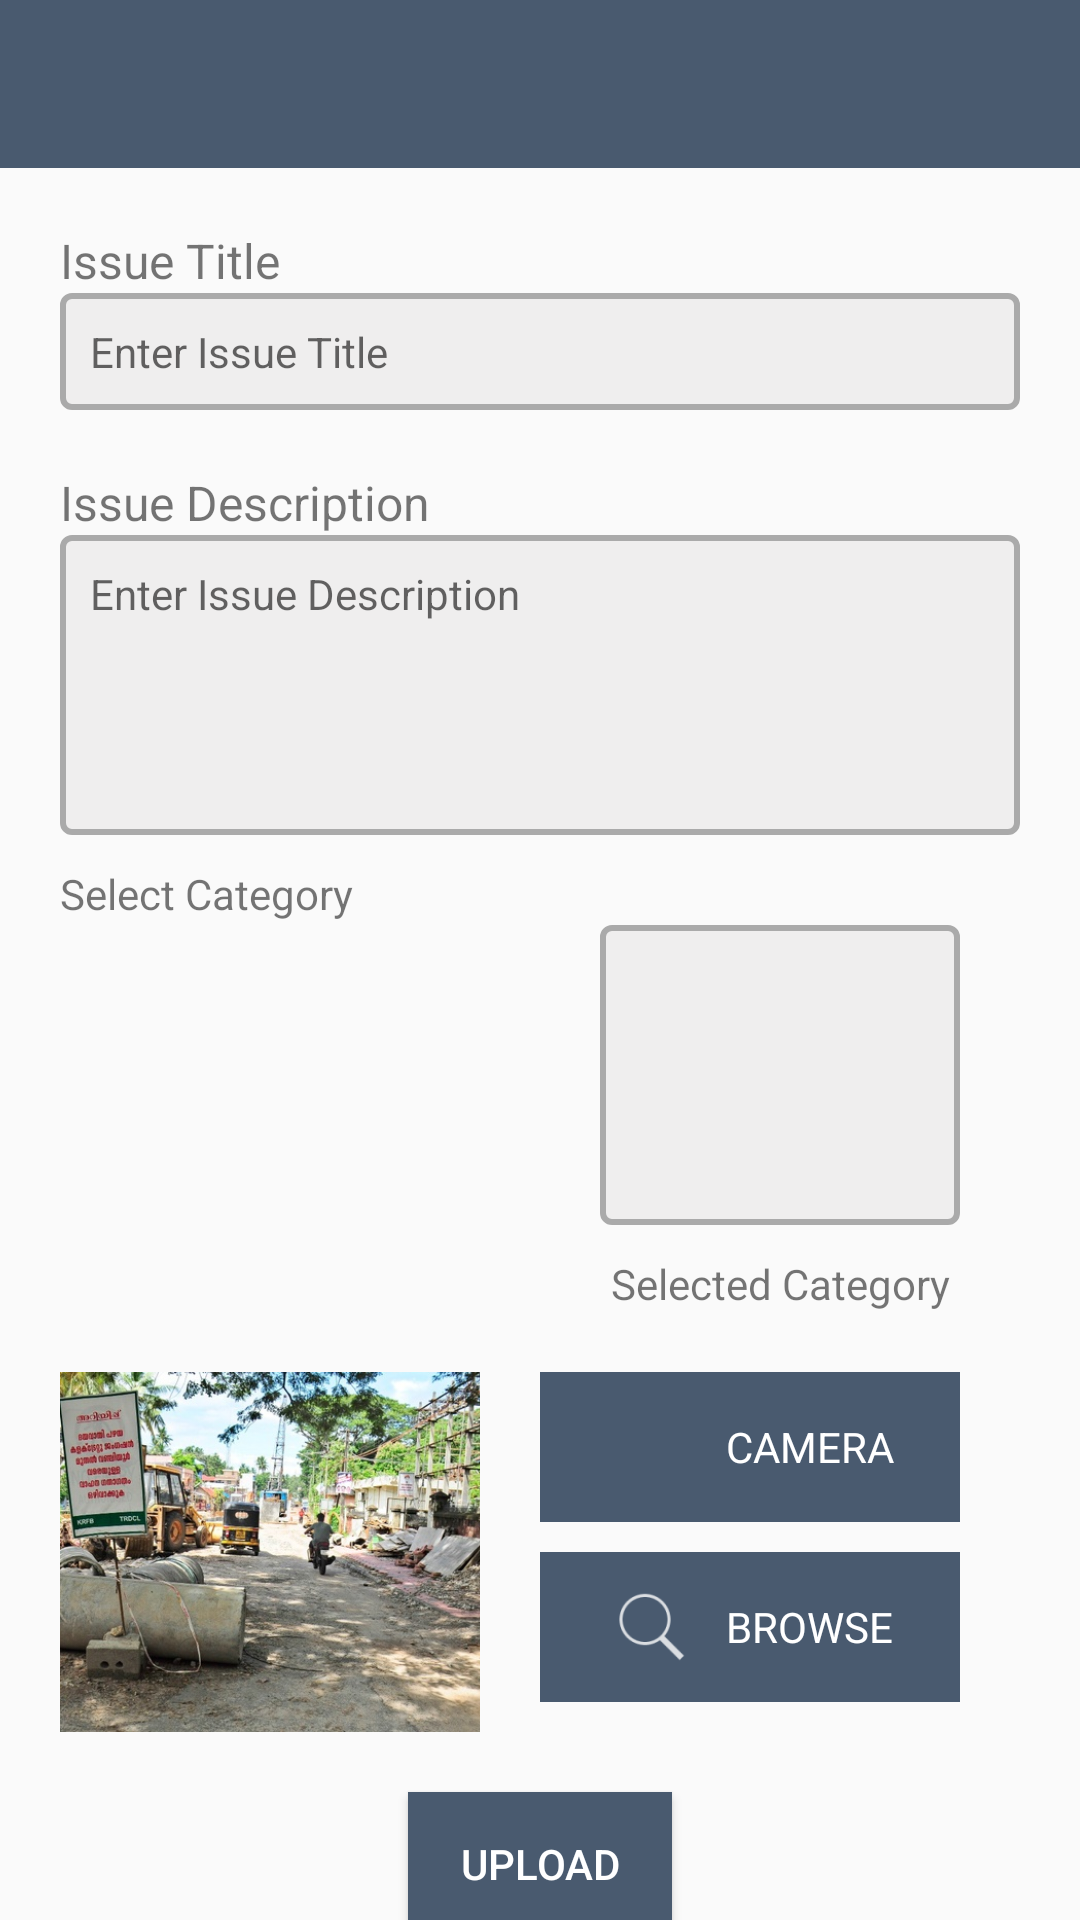

Icons on this 1080px×1920px Android screen, each with the point to tap as (x,y):
search: (651,1627)
